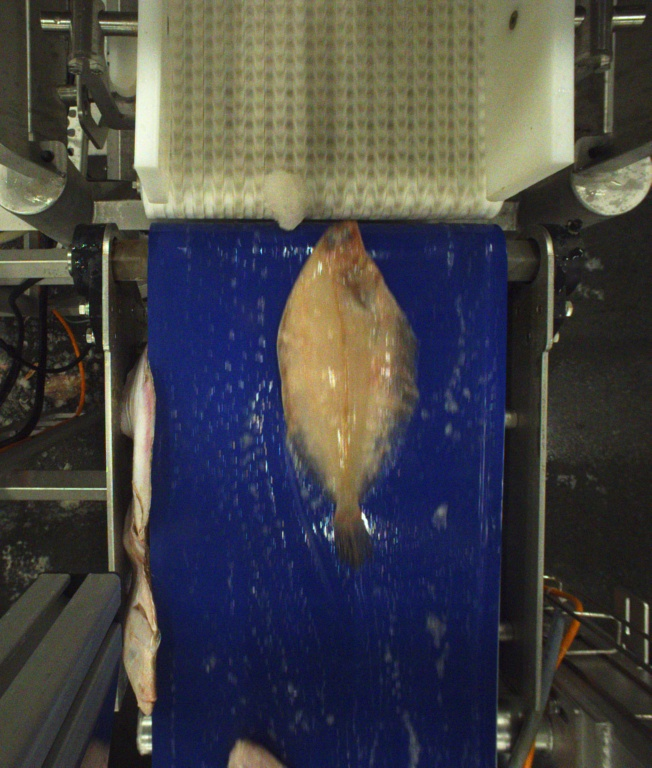WIT: (224, 735, 297, 768)
